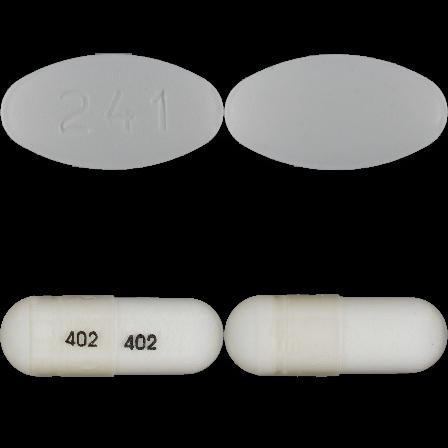62756-356: (0, 0, 224, 224)
